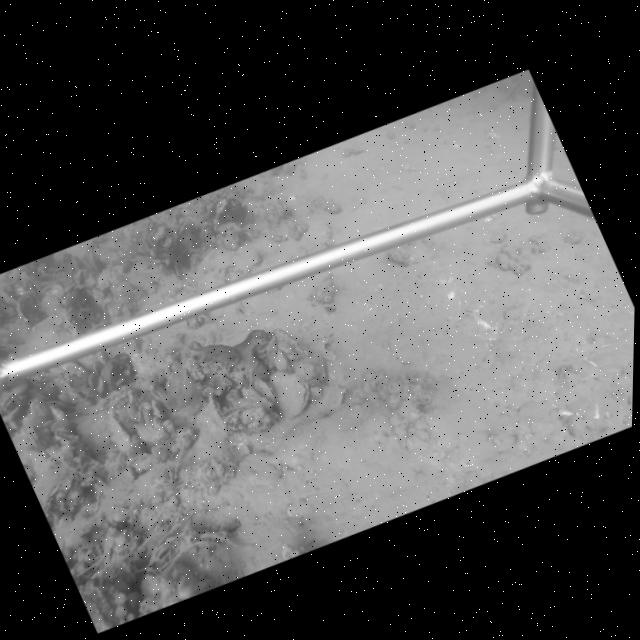Oyster-Closed: (268, 370, 312, 423), (271, 325, 312, 362), (106, 410, 135, 453), (203, 393, 229, 437)
